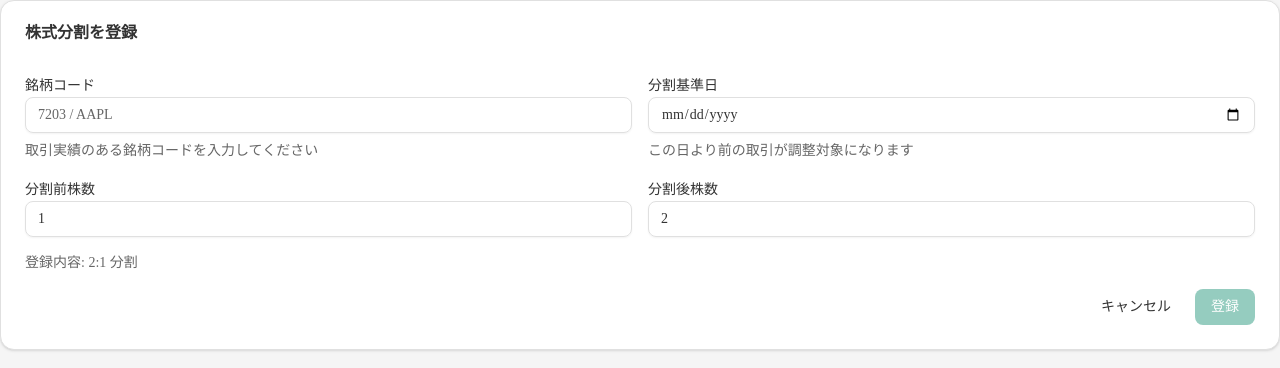
Test: StockSplitForm › 入力した株数から分割比率のプレビューを表示する
Expected: the text "登録内容: 2:1 分割" is shown, 25,255 -> 138,270
Replace the text in the number field labelled "分割後株数" with "4" at (952, 219), box 648,201 -> 1255,237
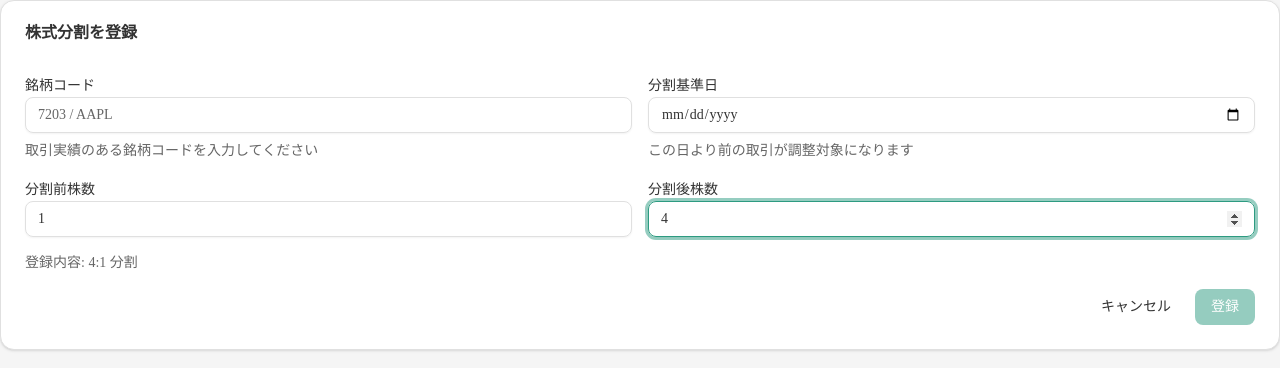
Expected: the text "登録内容: 4:1 分割" is shown, 25,255 -> 138,270
